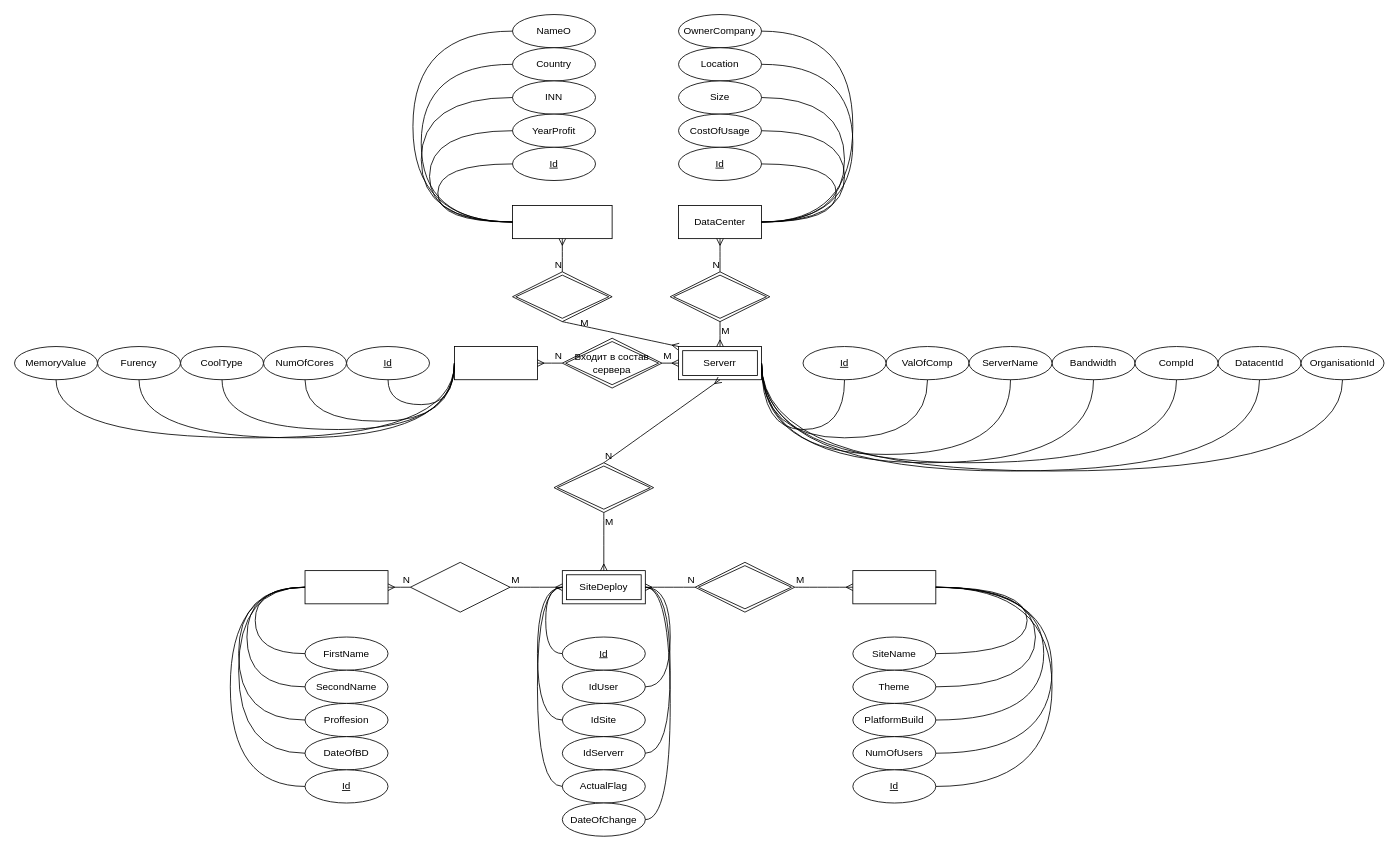
This 1399x851 diagram has some shape labels left out. Here are the shapes that lost their labels. From the top down, the centre of each, then its label:
the point at 562,222: Organisation
the point at 562,296: Арендует
the point at 719,296: Владеет
the point at 495,363: Computer
the point at 603,487: Предоставляет сервер для сайта
the point at 346,587: Persons
the point at 460,586: Просматривает сайт
the point at 744,586: Базируется на сервере
the point at 894,587: Sitee
